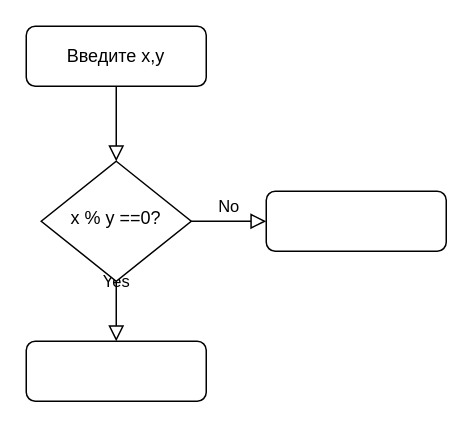
The diagram is 473 pixels wide and 428 high, and some of its shapes have lost their labels. Each missing label, with the centre of its shape:
print("no"): the point at 355,220
print("yes"): the point at 115,370
